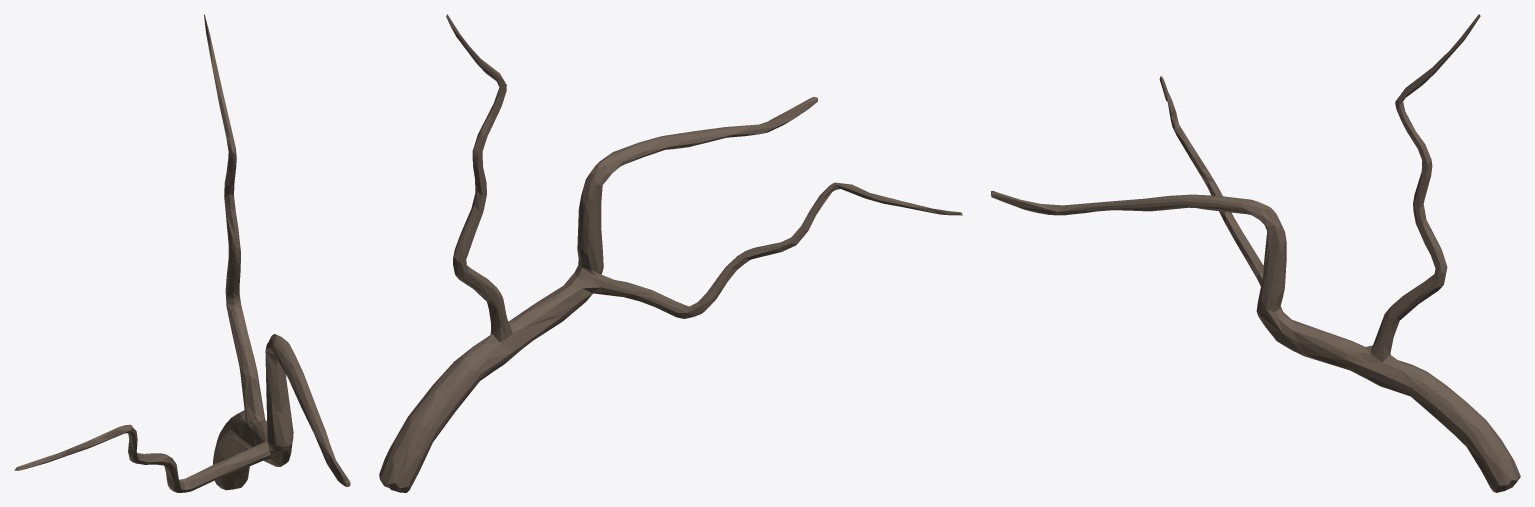
File: Volcano_tree_0.fbx
3 views of the same model, side by side, from view 1: azimuth 30°, elevation 25°; view 2: azimuth 150°, elevation 25°; view 3: azimuth 270°, elevation 25° (orthographic). The views are drawn at different scales.
Visible parts, largest first — view 1: Volcano_tree_0; view 2: Volcano_tree_0; view 3: Volcano_tree_0.
Boxes of the visible parts, <box> form: Volcano_tree_0: <box>14,14,350,492</box>; Volcano_tree_0: <box>379,14,962,492</box>; Volcano_tree_0: <box>991,14,1520,492</box>.
Size of the model in its own units: 3.48 by 3.93 by 4.12.
